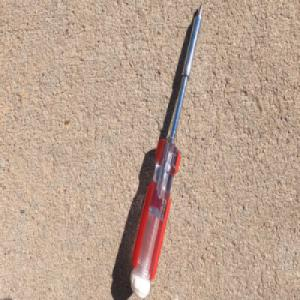Screwdriver: (129, 1, 204, 299)
